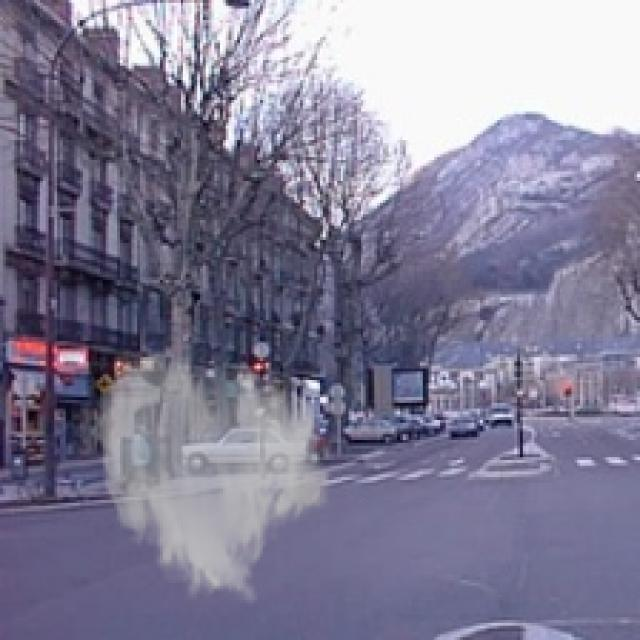smoke: (92, 346, 334, 608)
